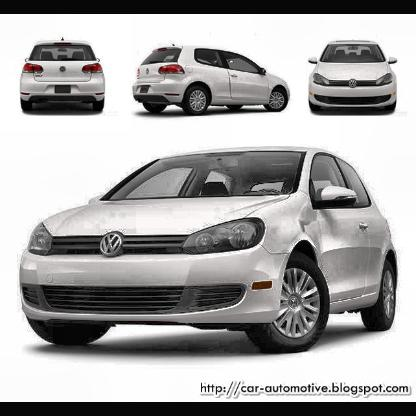Volkswagen Golf Hatchback 2012: (15, 149, 401, 354)
